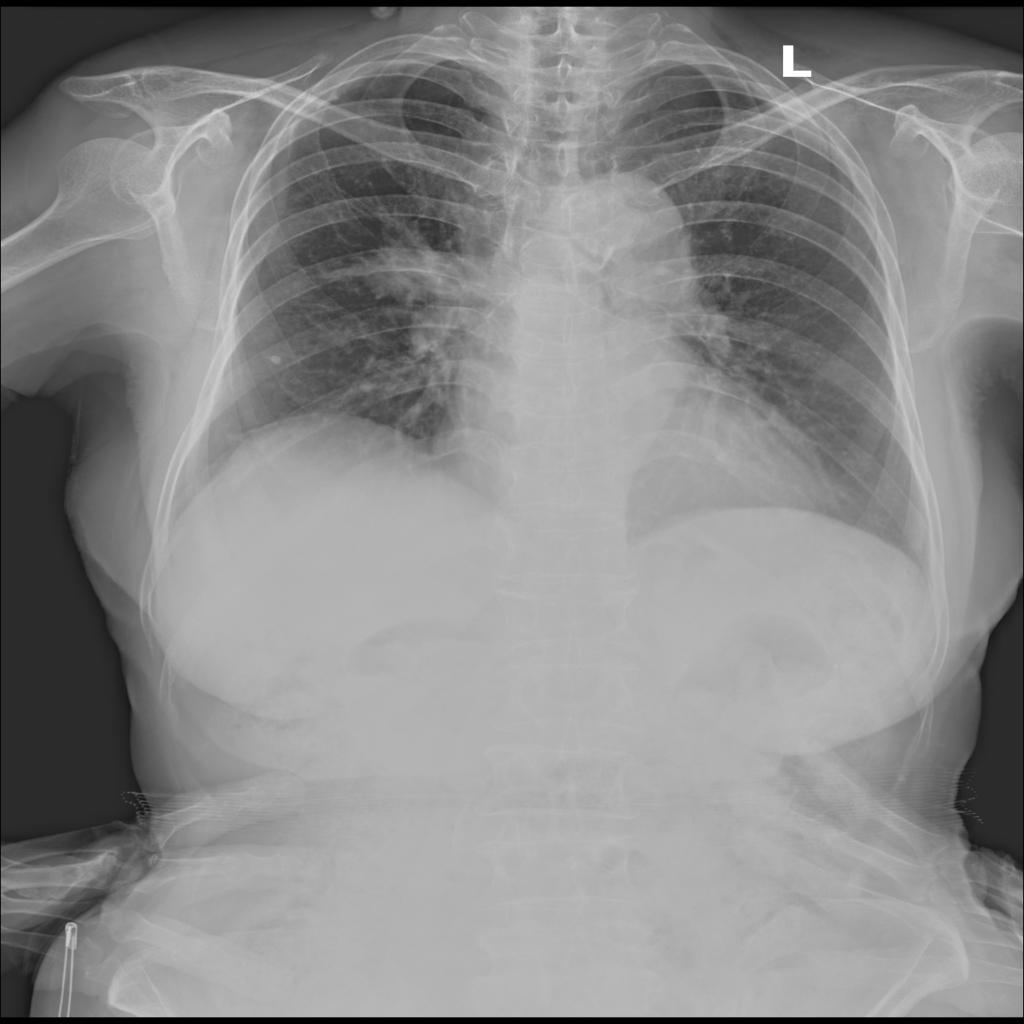Nodule: (270, 355, 283, 367)
